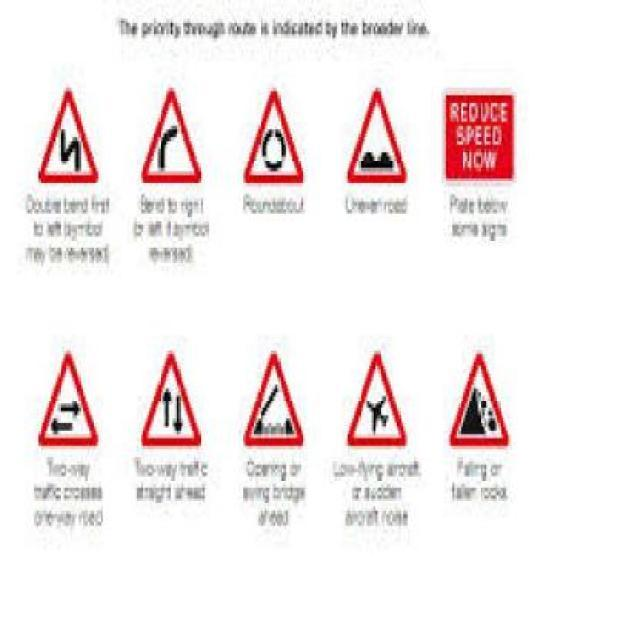warn_double_curve: (36, 84, 101, 187)
warn_right_curve: (135, 86, 209, 187)
